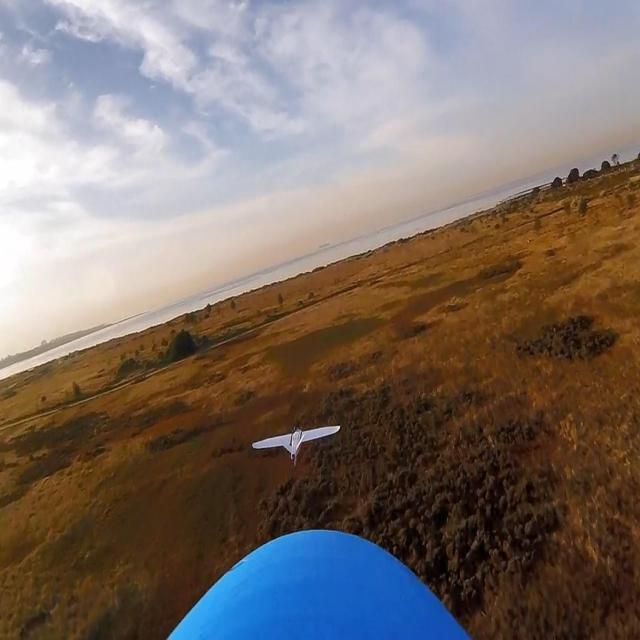iha: (282, 415, 316, 478)
